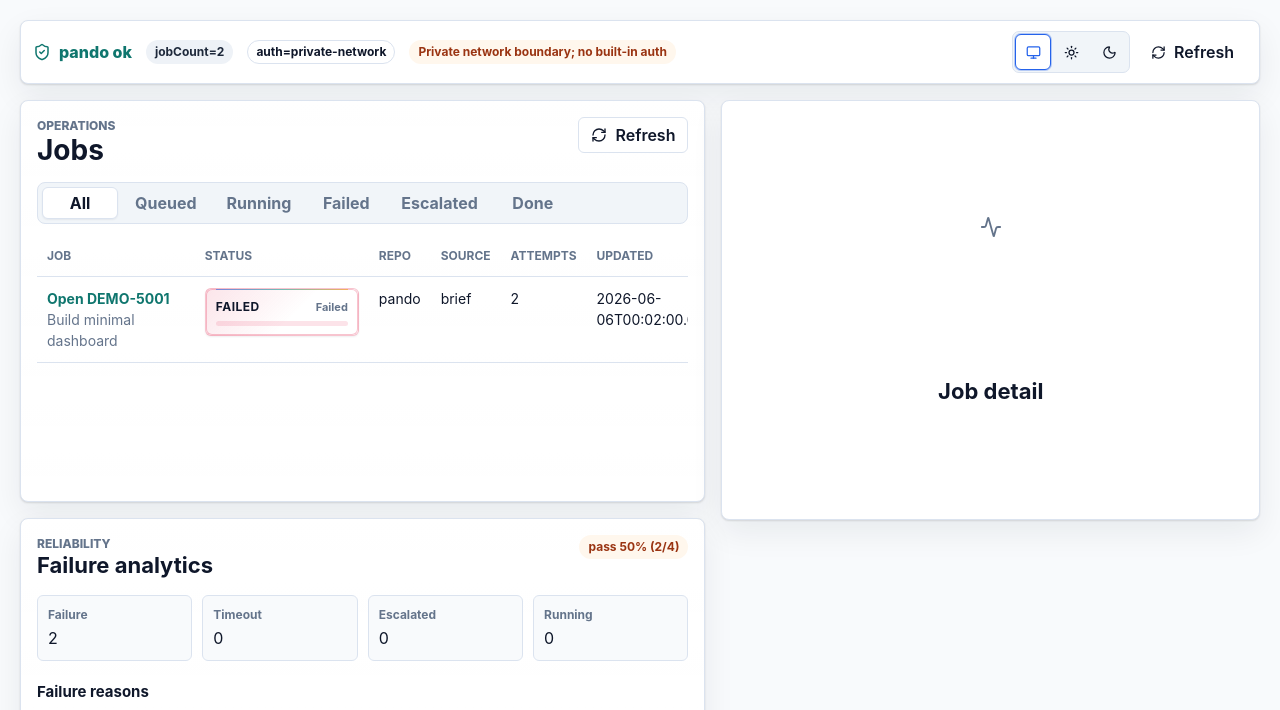
DashboardApp › shows job detail work item, timeline, failure evidence, and worktree path
Step 1. Click the button "Open DEMO-5001" → (108, 299), box [47,292,170,306]
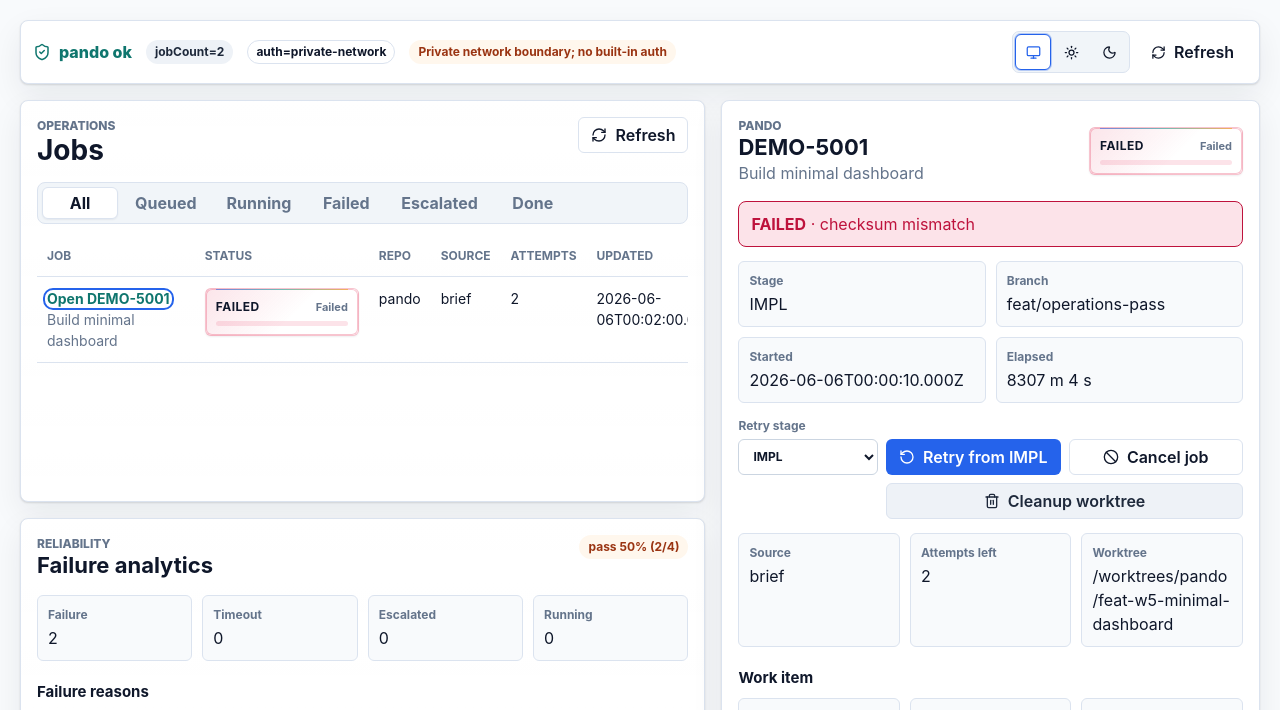
Expected: the heading "DEMO-5001" is shown, [738,134,868,160]
Expected: the heading "Work item" is shown, [738,668,813,687]
Expected: the text "/worktrees/pando/feat-w5-minimal-dashboard" is shown, [1092,564,1232,636]
